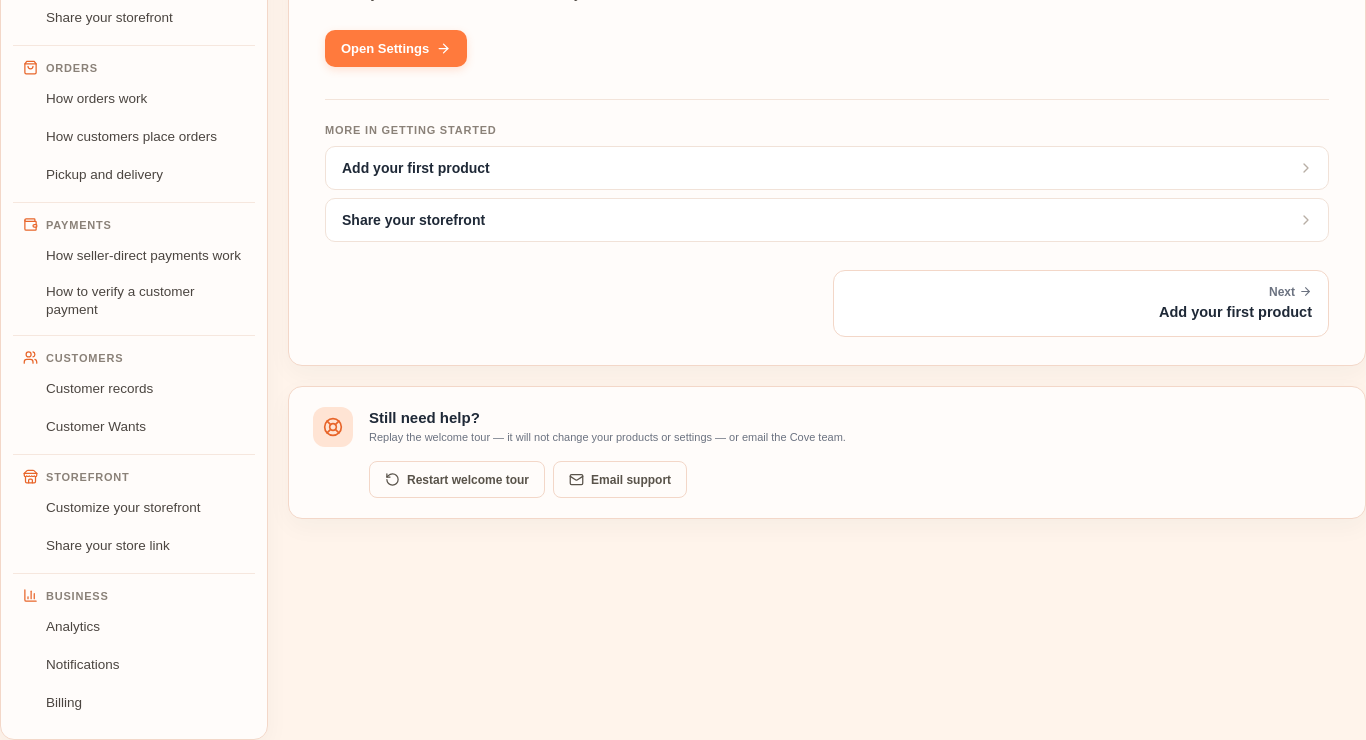
Test case: HelpPage › has no next button on the last topic
(page scrolled)
Click the button "Billing".
click(134, 703)  # box [13,685,255,721]
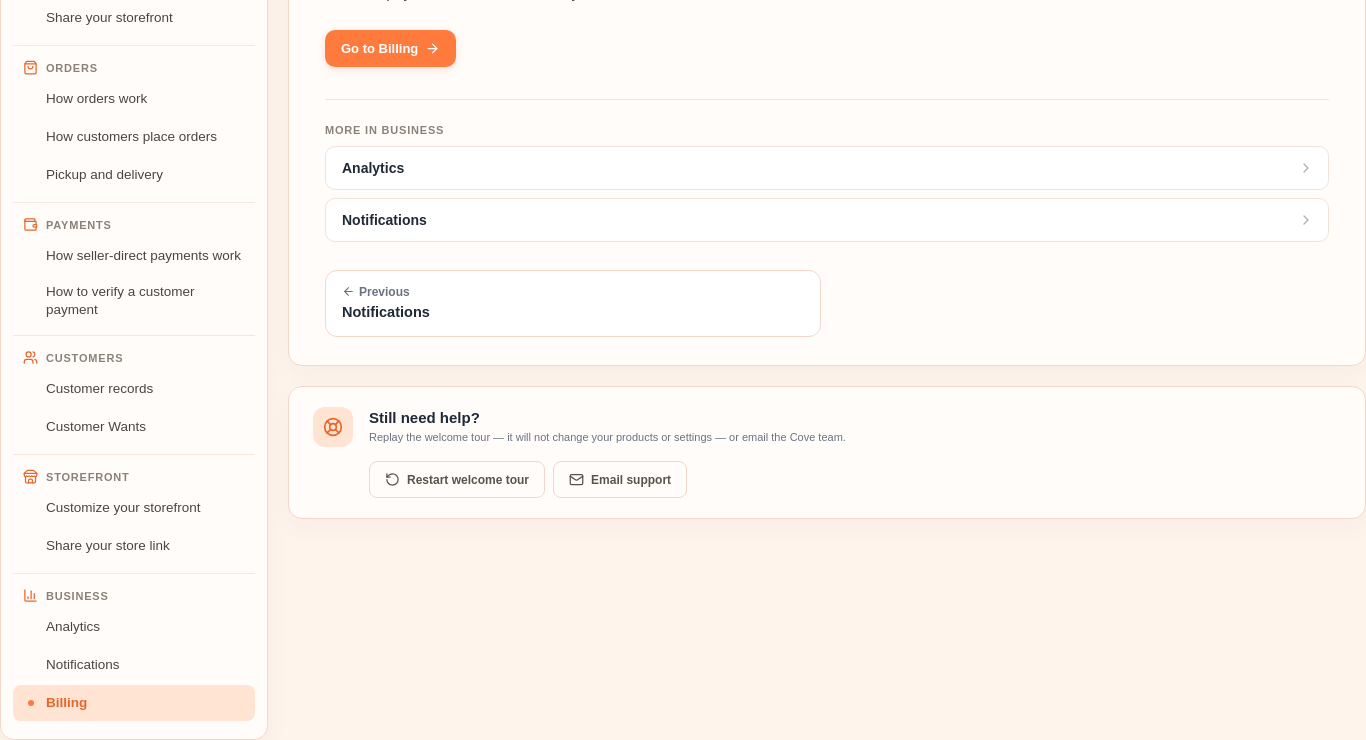
Check: the button "Next" is gone
